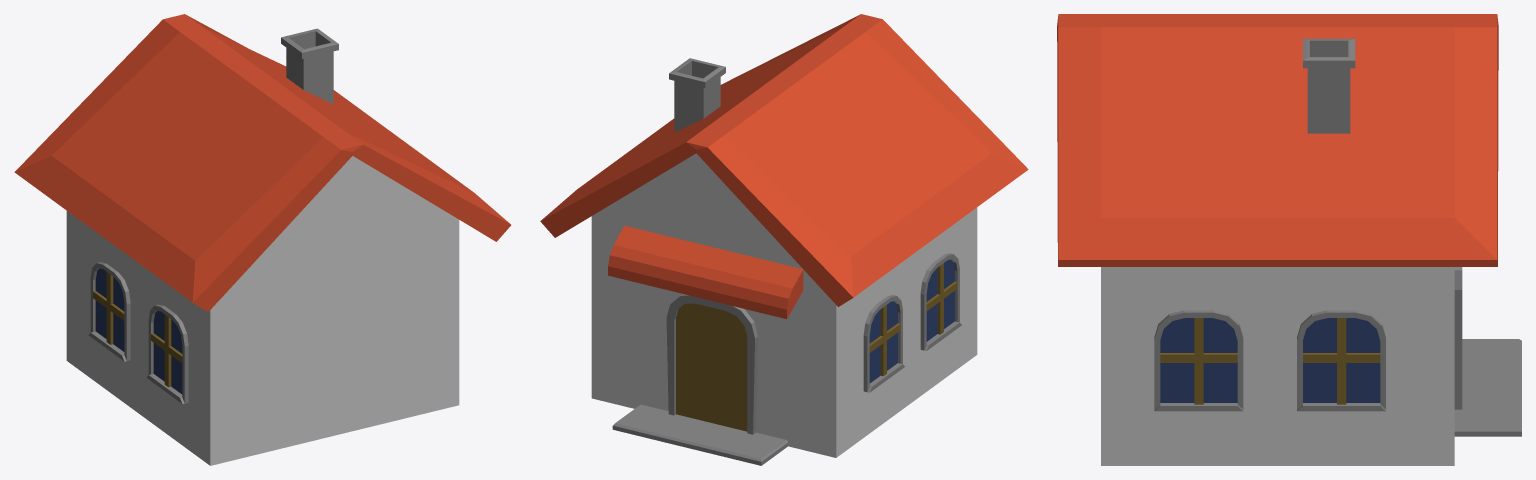
Rendered from House2.fbx.
3 views of the same model, side by side, from view 1: azimuth 30°, elevation 25°; view 2: azimuth 150°, elevation 25°; view 3: azimuth 270°, elevation 25° (orthographic). The views are drawn at different scales.
Parts seen in each view (by area): view 1: House 2; view 2: House 2; view 3: House 2.
Boxes of the visible parts, x1,y1,x2,y2 form: House 2: (14,14,511,465); House 2: (540,14,1028,465); House 2: (1057,14,1521,465).
Size of the model in its own units: 743 by 693 by 762.
